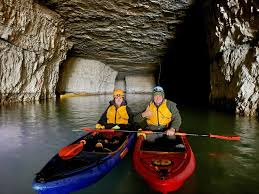boat: (31, 119, 140, 194), (130, 122, 197, 194)
